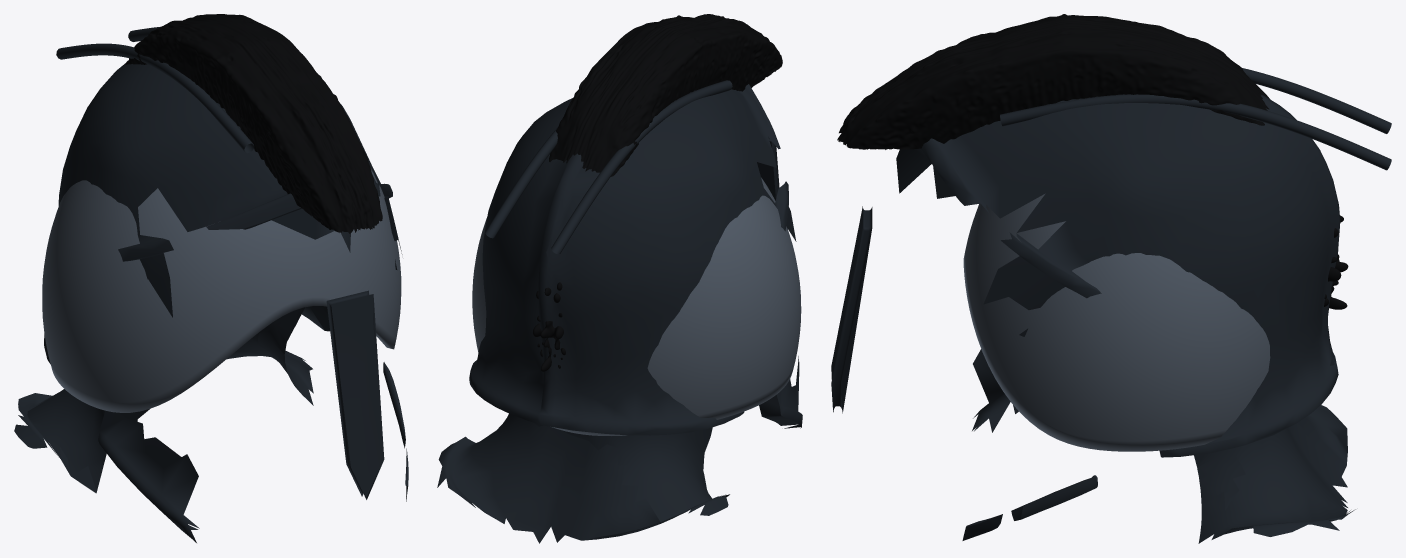
File: leonidas-aqueo-dark-open-v7.glb
The picture shows the model from 3 angles, left to right: view 1: azimuth 30°, elevation 25°; view 2: azimuth 150°, elevation 25°; view 3: azimuth 270°, elevation 25°; orthographic projection. The views are drawn at different scales.
Parts seen in each view (by area): view 1: Aqueo_FitReference, AqueoDarkV6_OriginalAnatomicalShell, AqueoDarkV6_DenseSagittalCrest, AqueoDarkV6_ForgedNasal, AqueoDarkV6_CrestRail_-0.021; view 2: AqueoDarkV6_OriginalAnatomicalShell, Aqueo_FitReference, AqueoDarkV6_DenseSagittalCrest, AqueoDarkV6_CrestRail_-0.021, AqueoDarkV6_CrestRail_+0.021, AqueoDarkV6_ForgedNasal; view 3: AqueoDarkV6_OriginalAnatomicalShell, Aqueo_FitReference, AqueoDarkV6_DenseSagittalCrest, AqueoDarkV6_CrestRail_+0.021, AqueoDarkV6_ForgedNasal, AqueoDarkV6_CrestRail_-0.021.
Part boxes in pixels (<box>): Aqueo_FitReference: <box>42,169,401,412</box>; AqueoDarkV6_OriginalAnatomicalShell: <box>14,63,408,542</box>; AqueoDarkV6_DenseSagittalCrest: <box>125,14,382,233</box>; AqueoDarkV6_ForgedNasal: <box>326,290,384,499</box>; AqueoDarkV6_CrestRail_-0.021: <box>56,43,254,152</box>; AqueoDarkV6_OriginalAnatomicalShell: <box>437,84,802,543</box>; Aqueo_FitReference: <box>472,177,801,435</box>; AqueoDarkV6_DenseSagittalCrest: <box>533,14,782,371</box>; AqueoDarkV6_CrestRail_-0.021: <box>551,80,732,254</box>; AqueoDarkV6_CrestRail_+0.021: <box>485,127,557,238</box>; AqueoDarkV6_ForgedNasal: <box>757,137,779,200</box>; AqueoDarkV6_OriginalAnatomicalShell: <box>896,94,1355,543</box>; Aqueo_FitReference: <box>963,193,1270,451</box>; AqueoDarkV6_DenseSagittalCrest: <box>837,14,1348,309</box>; AqueoDarkV6_CrestRail_+0.021: <box>1000,94,1391,170</box>; AqueoDarkV6_ForgedNasal: <box>831,206,872,413</box>; AqueoDarkV6_CrestRail_-0.021: <box>1242,68,1391,133</box>.
Size of the model in its own units: 0.1852 by 0.2592 by 0.2745.
